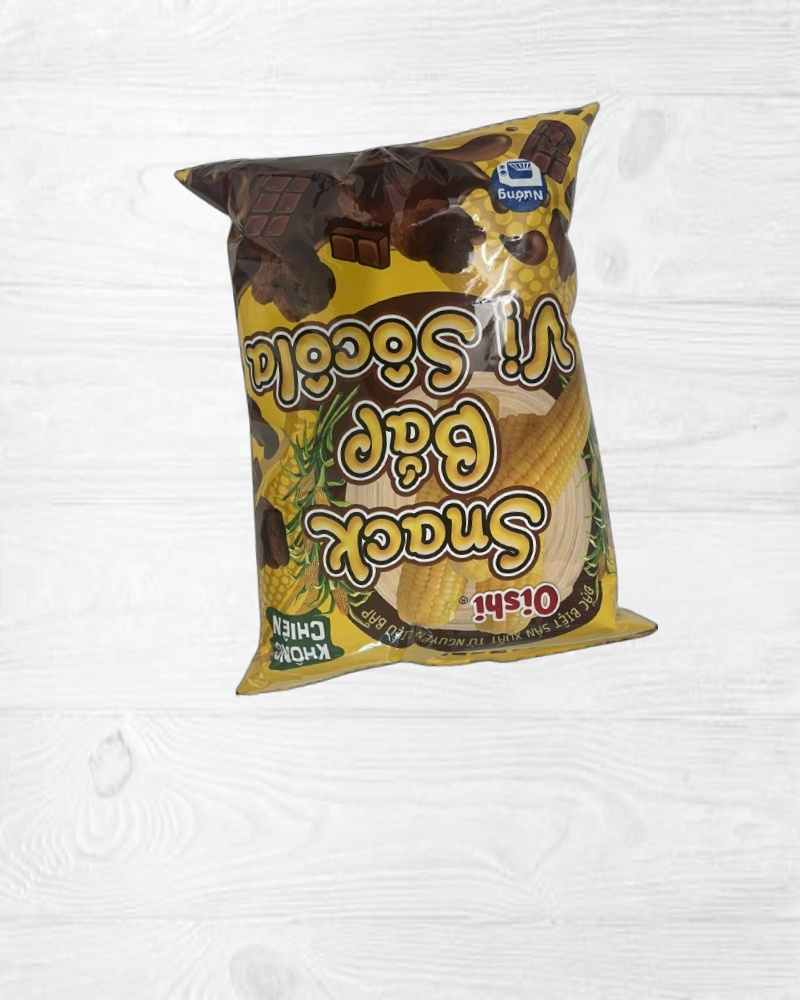Snack socola: (174, 104, 661, 696)
